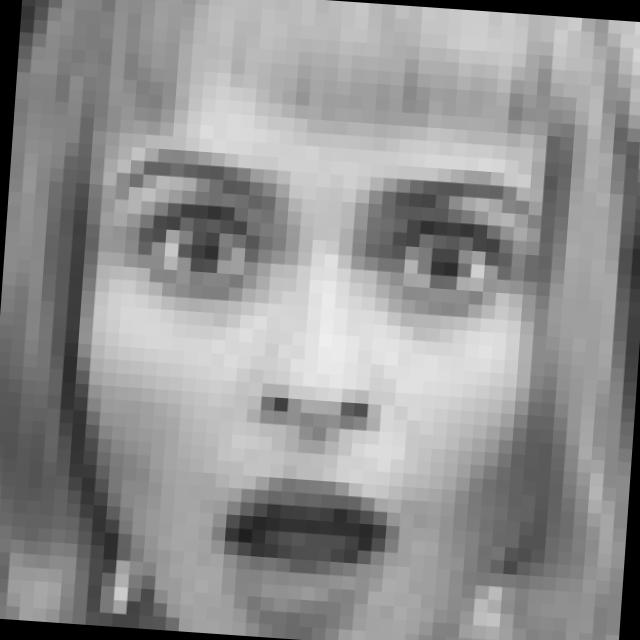surprise: (89, 135, 552, 640)
